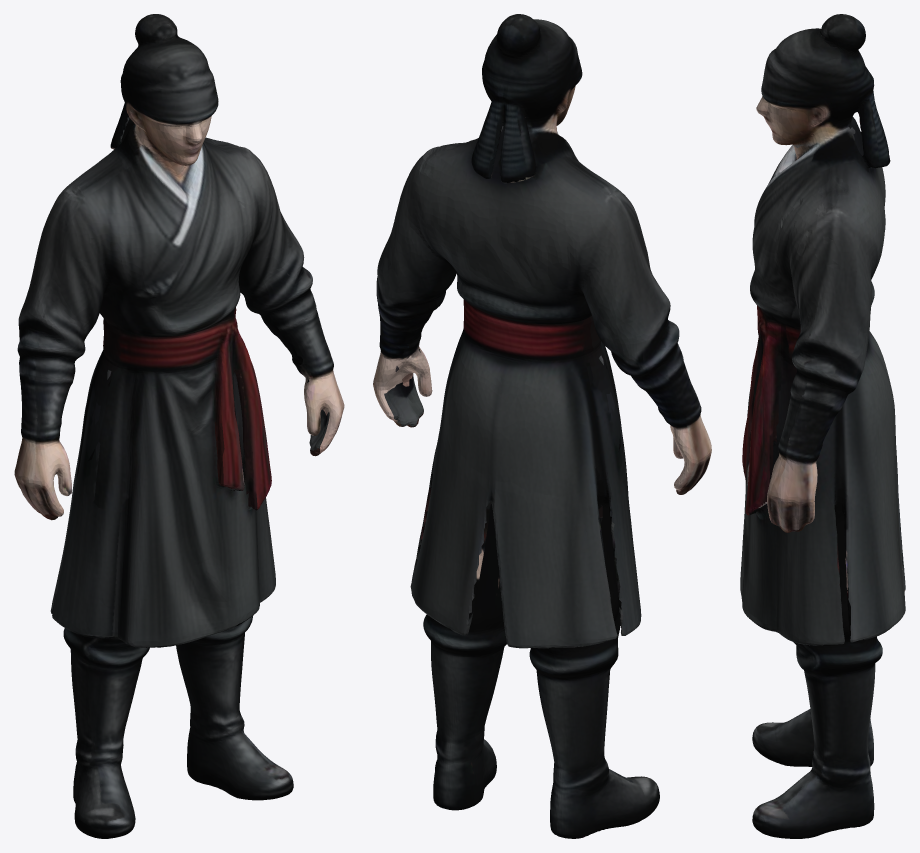
The model's file is hero_body_raw.glb.
The picture shows the model from 3 angles, left to right: view 1: azimuth 30°, elevation 25°; view 2: azimuth 150°, elevation 25°; view 3: azimuth 270°, elevation 25°; orthographic projection. The views are drawn at different scales.
Parts seen in each view (by area): view 1: tmpcm3yqkg5.ply; view 2: tmpcm3yqkg5.ply; view 3: tmpcm3yqkg5.ply.
Boxes of the visible parts, x1=… form: tmpcm3yqkg5.ply: x1=14, y1=14, x2=344, y2=838; tmpcm3yqkg5.ply: x1=373, y1=14, x2=711, y2=838; tmpcm3yqkg5.ply: x1=740, y1=14, x2=905, y2=838.
Bounding box in the file's own units: 0.8605 × 1.99 × 0.3855.
Materials: 1 (1 with a texture image).
